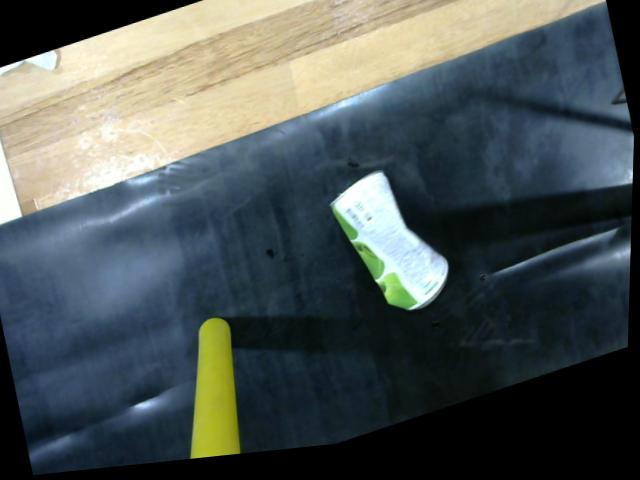can: (327, 166, 464, 324)
